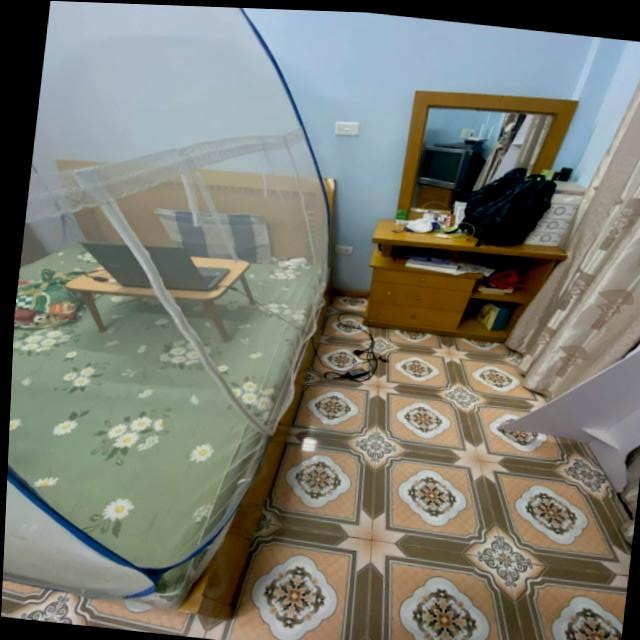outlet: (334, 246, 354, 256)
